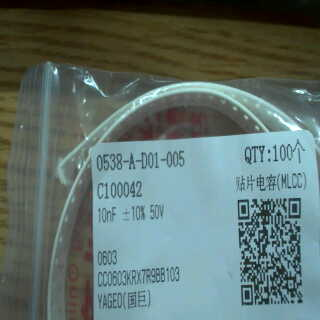10nF: (95, 203, 118, 227)
